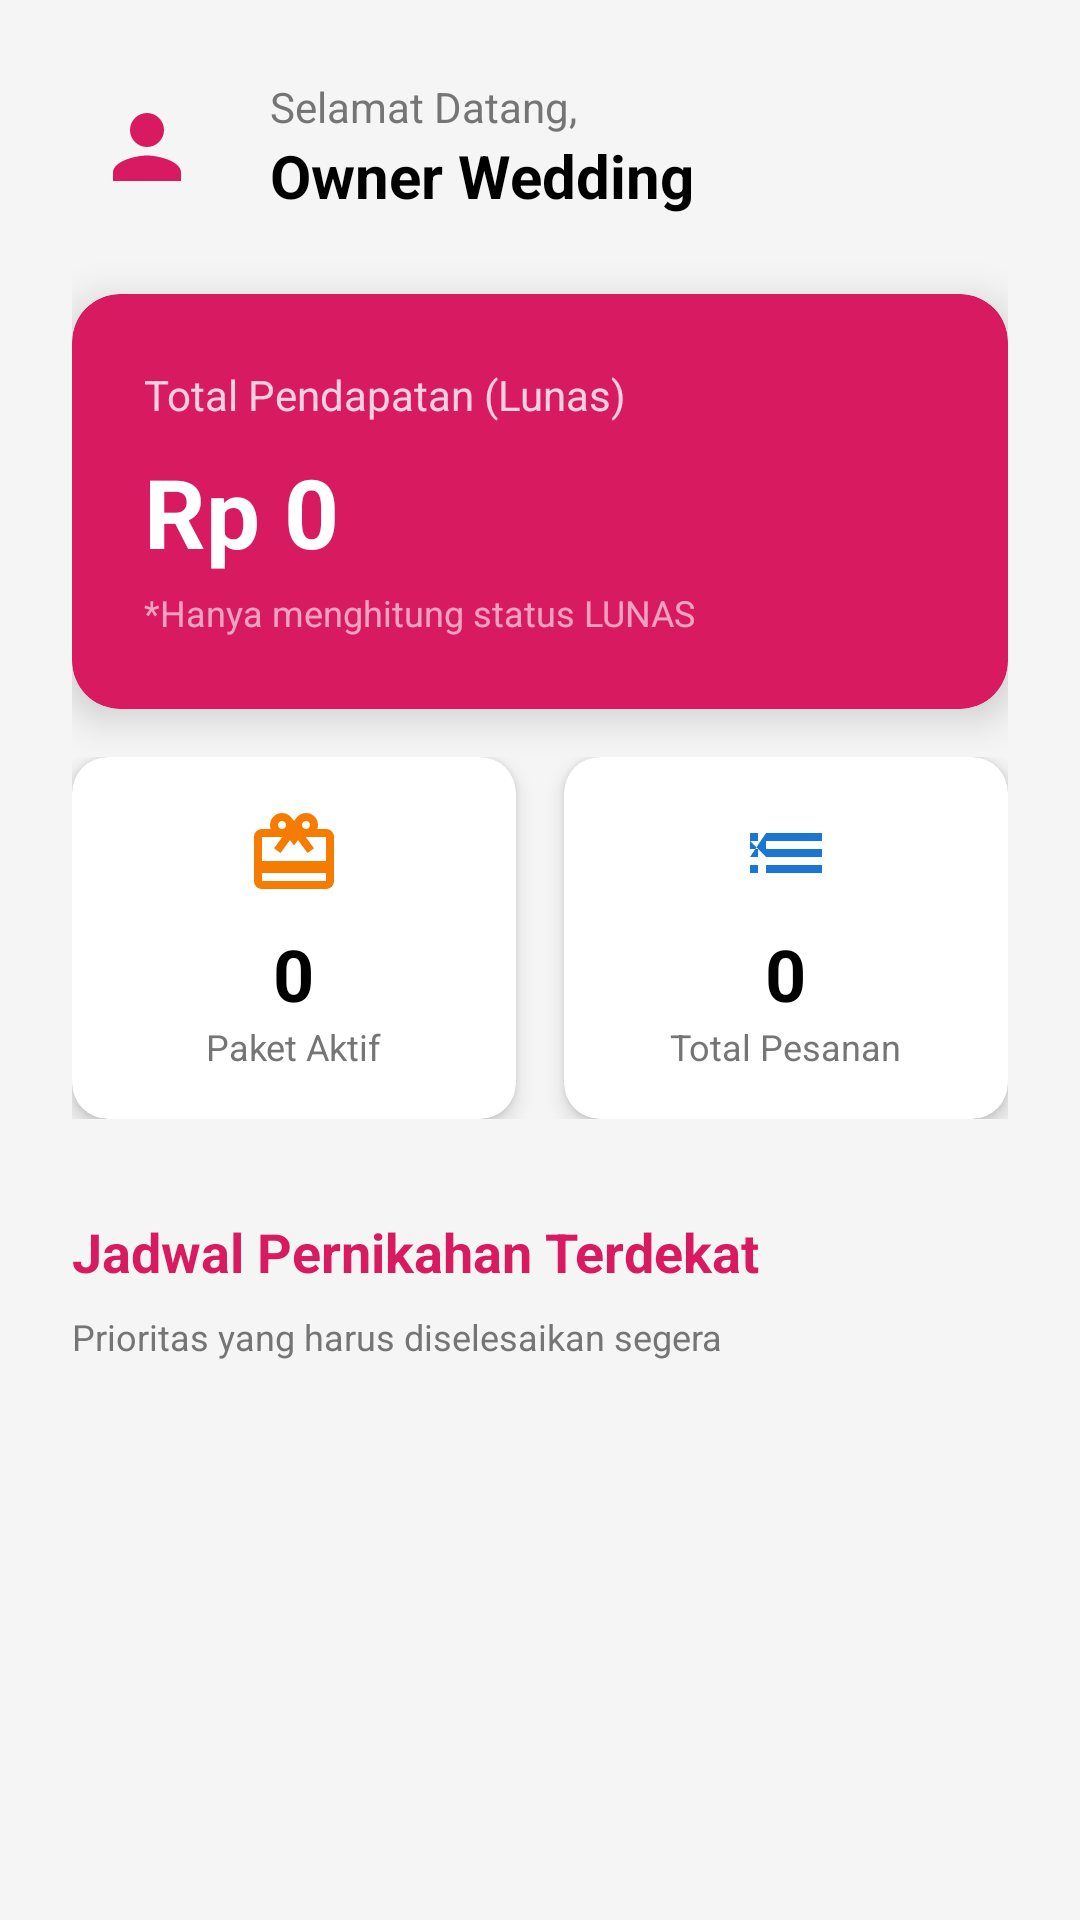

Named icons in this screenshot (1080 × 1920) and their bounding boxes, (x1, y1, x2, y2):
person: (113, 113, 181, 181)
